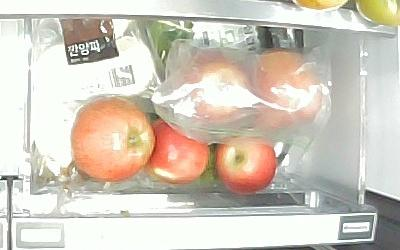apple: (69, 96, 156, 183), (148, 118, 211, 183), (214, 135, 279, 194)
apple_vinyl: (179, 52, 257, 128), (257, 49, 323, 134)
